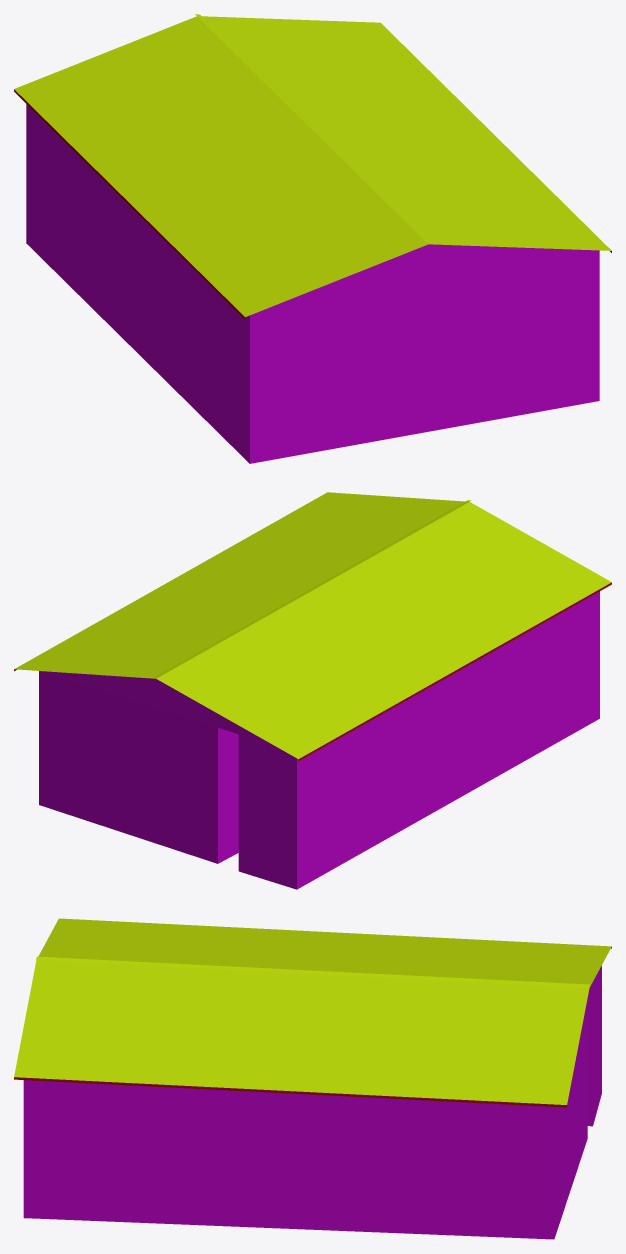
The model's file is bgj_387.glb.
The picture shows the model from 3 angles, top to bottom: view 1: azimuth 30°, elevation 25°; view 2: azimuth 150°, elevation 25°; view 3: azimuth 270°, elevation 25°; orthographic projection. The views are drawn at different scales.
Parts seen in each view (by area): view 1: bgj_387; view 2: bgj_387; view 3: bgj_387.
Boxes of the visible parts, <box> form: bgj_387: <box>14,14,611,463</box>; bgj_387: <box>14,492,611,889</box>; bgj_387: <box>14,918,611,1239</box>.
Bounding box in the file's own units: 20.03 × 9.22 × 27.12.
